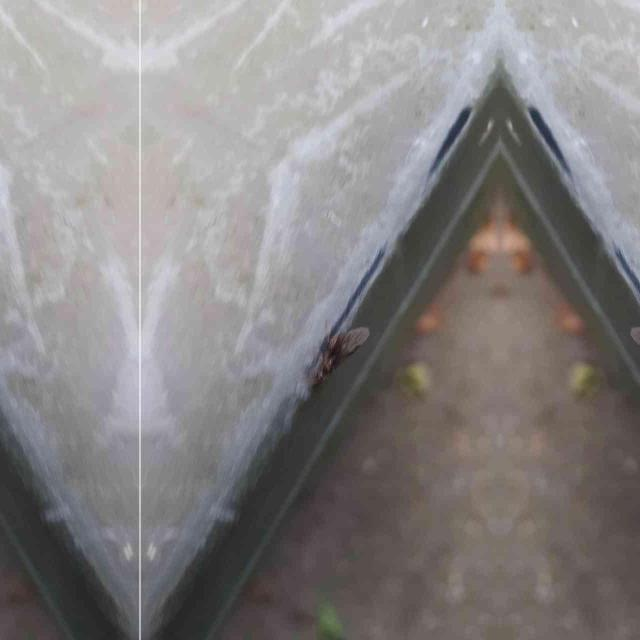Lasius: (304, 322, 368, 394)
